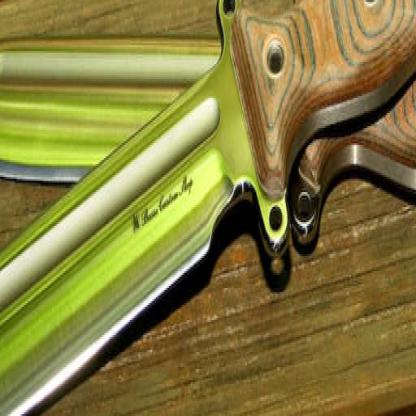knife: (0, 0, 415, 414), (0, 54, 415, 248)
